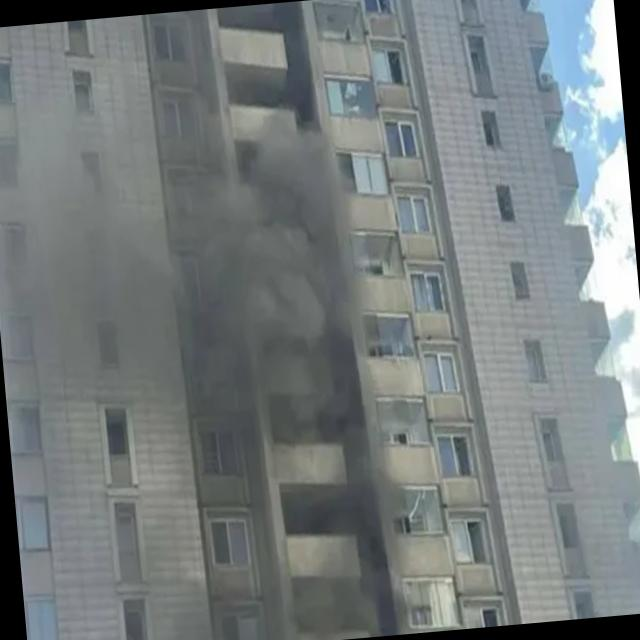Smoke: (49, 94, 366, 455)
